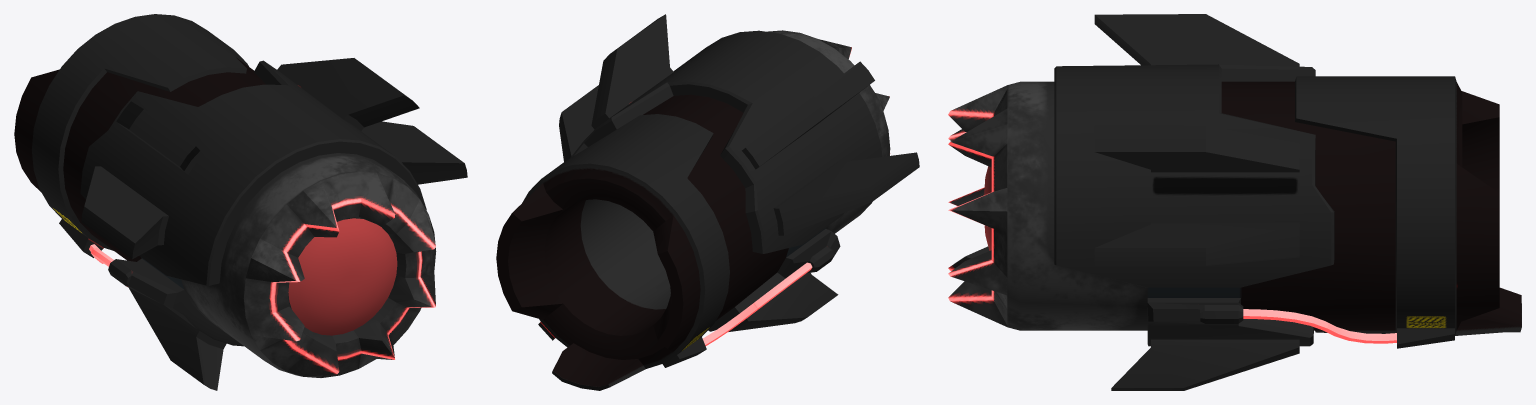
Rendered from DrewCannon.fbx.
3 renders of one model, left to right at view 1: azimuth 30°, elevation 25°; view 2: azimuth 150°, elevation 25°; view 3: azimuth 270°, elevation 25°, orthographic. The views are drawn at different scales.
Visible parts, largest first — view 1: CannonBody, CannonLens; view 2: CannonBody; view 3: CannonBody.
Boxes of the visible parts, box(x1,y1,x2,y2) form: CannonBody: box(14, 14, 467, 390); CannonLens: box(288, 218, 397, 335); CannonBody: box(496, 14, 919, 390); CannonBody: box(948, 14, 1521, 390).
Size of the model in its own units: 339 by 249 by 460.
